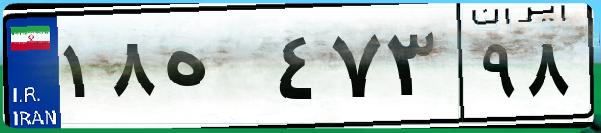1: (57, 26, 110, 100)
3: (385, 28, 445, 110)
4: (270, 28, 330, 110)
7: (330, 28, 385, 110)
8: (525, 38, 570, 115), (110, 28, 158, 98)
9: (475, 38, 525, 113)
ه: (158, 20, 270, 120)
